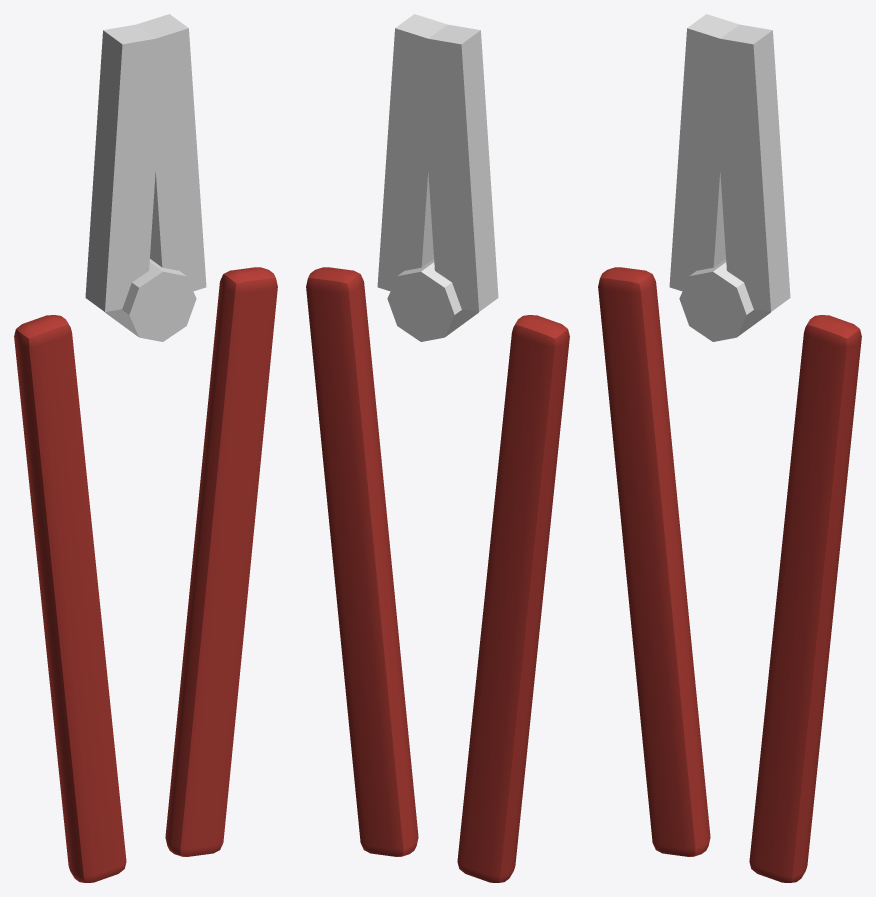
The model's file is SM_Tool_Pliers.fbx.
3 renders of one model, left to right at view 1: azimuth 30°, elevation 25°; view 2: azimuth 150°, elevation 25°; view 3: azimuth 330°, elevation 25°, orthographic.
Parts seen in each view (by area): view 1: SM_Tool_Pliers_1; view 2: SM_Tool_Pliers_1; view 3: SM_Tool_Pliers_1.
Boxes of the visible parts, left/top/right/bottom form: SM_Tool_Pliers_1: left=14, top=14, right=277, bottom=882; SM_Tool_Pliers_1: left=306, top=14, right=569, bottom=882; SM_Tool_Pliers_1: left=598, top=14, right=861, bottom=882.
Size of the model in its own units: 6.09 by 19.02 by 1.4.
